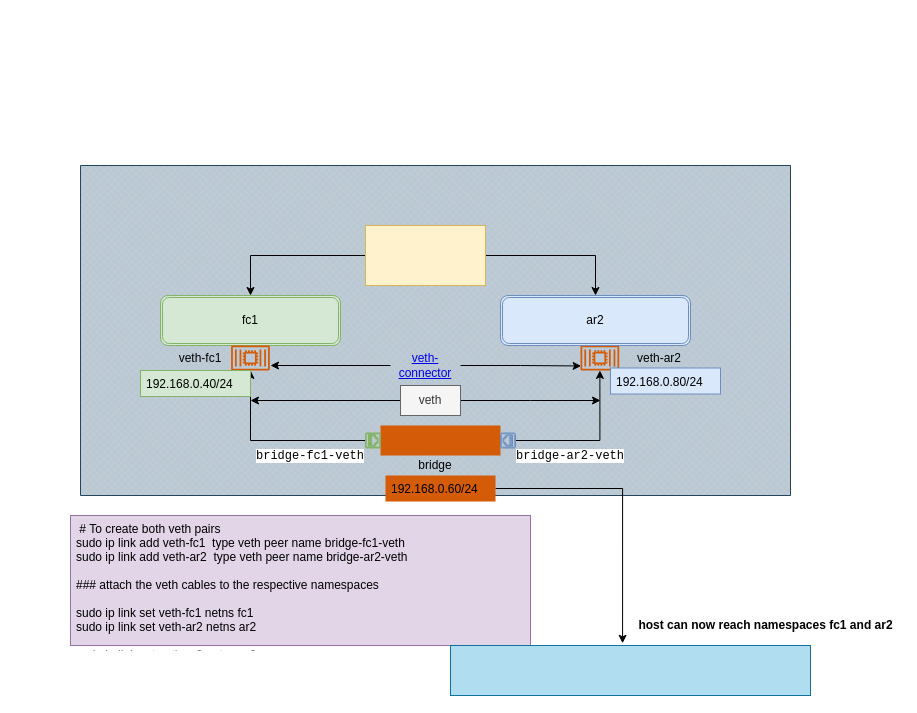
Some shapes in this 917 by 713 pixel diagram are drawn without their labels. The centre of each missing label's shape, as x and y in pixels:
"ground-bridge" belongs at (440,440).
"Network namespaces" belongs at (425,255).
"sudo ip addr add 192.168.0.60/24 brd + dev ground-bridge" belongs at (630,670).
